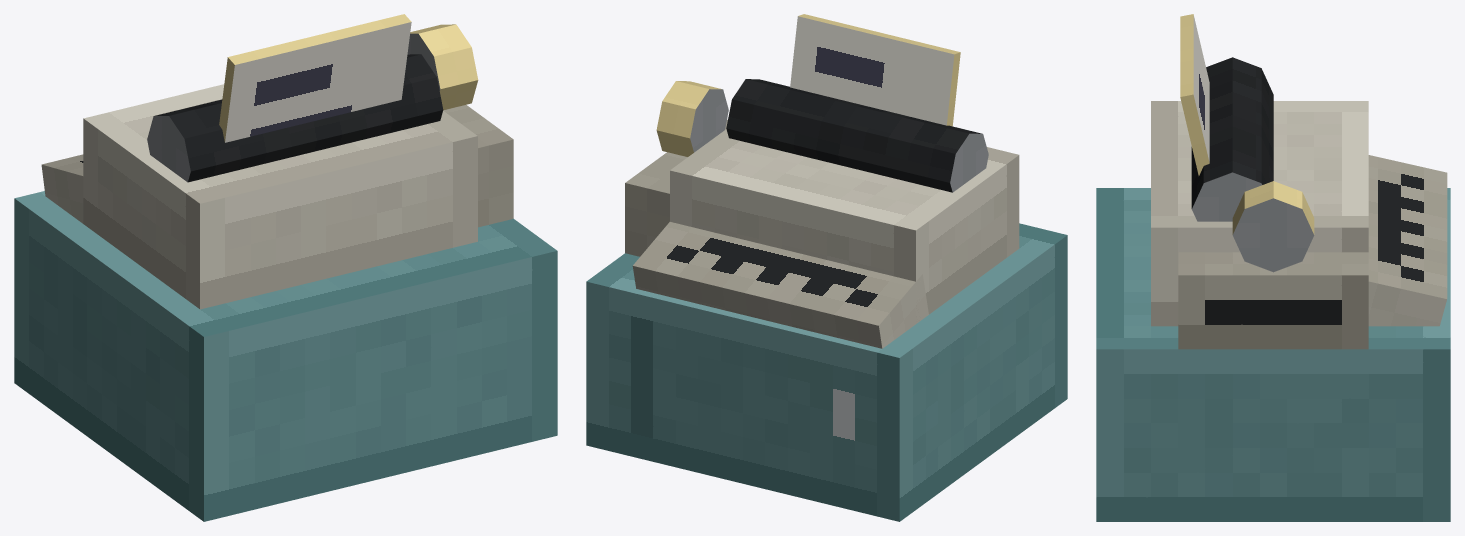
The model's file is era2_typewriter.obj.
3 views of the same model, side by side, from view 1: azimuth 30°, elevation 25°; view 2: azimuth 150°, elevation 25°; view 3: azimuth 270°, elevation 25° (orthographic). The views are drawn at different scales.
Parts seen in each view (by area): view 1: era2_typewriter; view 2: era2_typewriter; view 3: era2_typewriter.
Boxes of the visible parts, x1,y1,x2,y2 form: era2_typewriter: (14, 14, 557, 521); era2_typewriter: (586, 14, 1067, 521); era2_typewriter: (1096, 14, 1450, 521).
Size of the model in its own units: 0.875 by 0.9659 by 0.8125.
